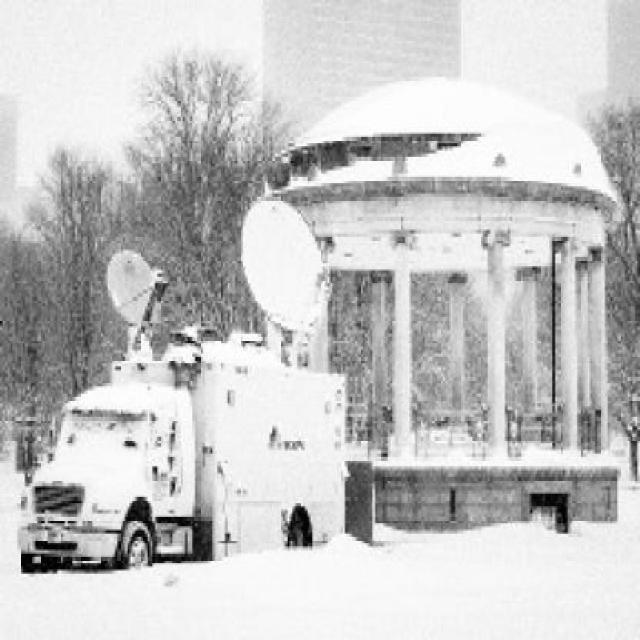Box Truck: (18, 362, 347, 574)
